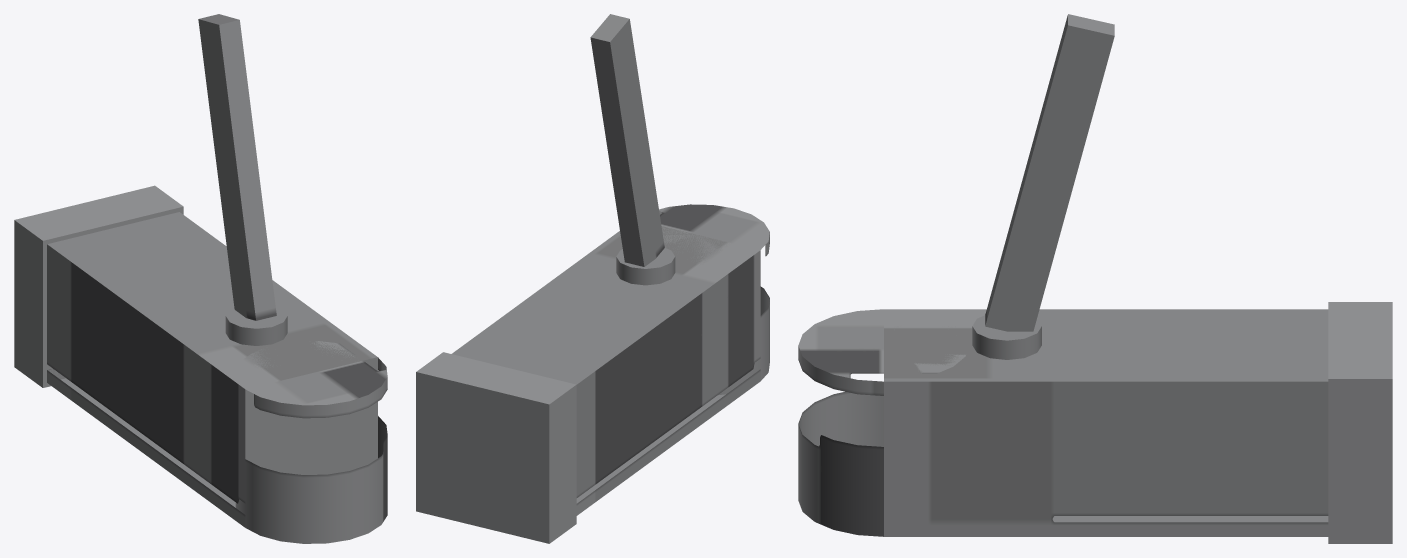
3 views of the same model, side by side, from view 1: azimuth 30°, elevation 25°; view 2: azimuth 150°, elevation 25°; view 3: azimuth 270°, elevation 25° (orthographic). The views are drawn at different scales.
Bounding box in the file's own units: 0.3672 × 1.08 × 1.2.
